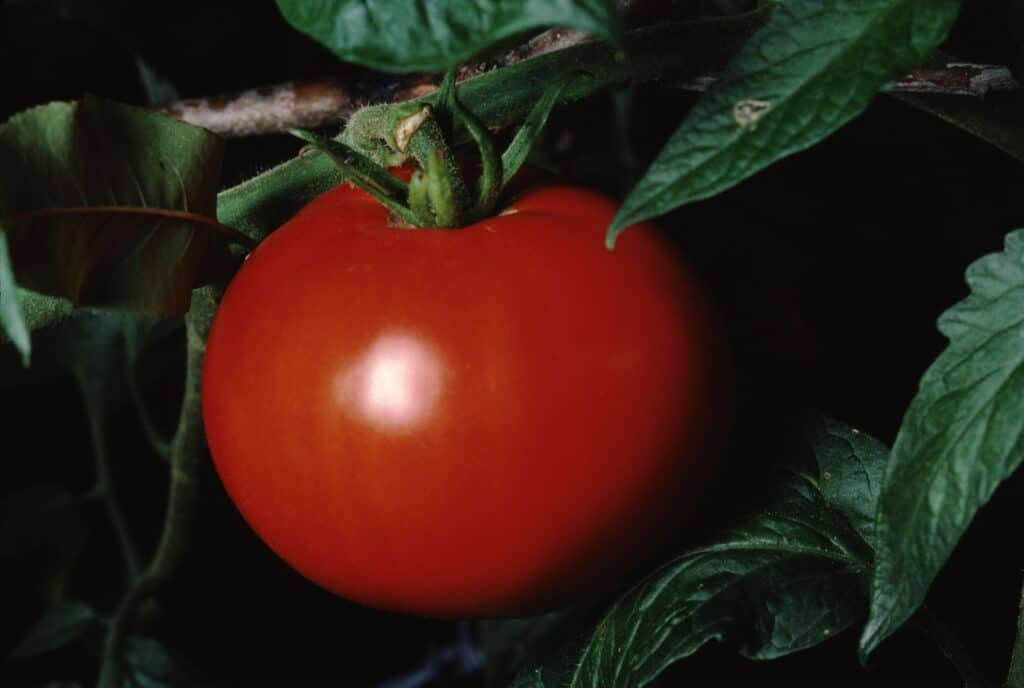tomato: (210, 148, 729, 637)
